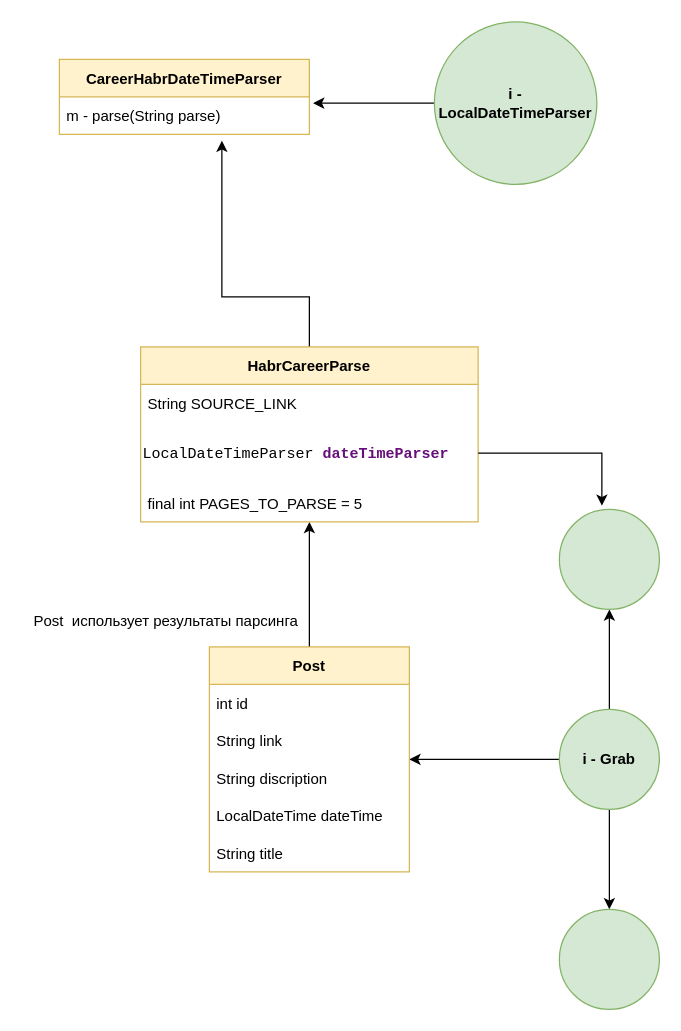
The diagram is 681 pixels wide and 1031 high, and some of its shapes have lost their labels. Here are the shapes that lost their labels. From the top down, the centre of each, then its label:
At point (608, 558): "i - Parse".
At point (608, 958): "i - Store".
